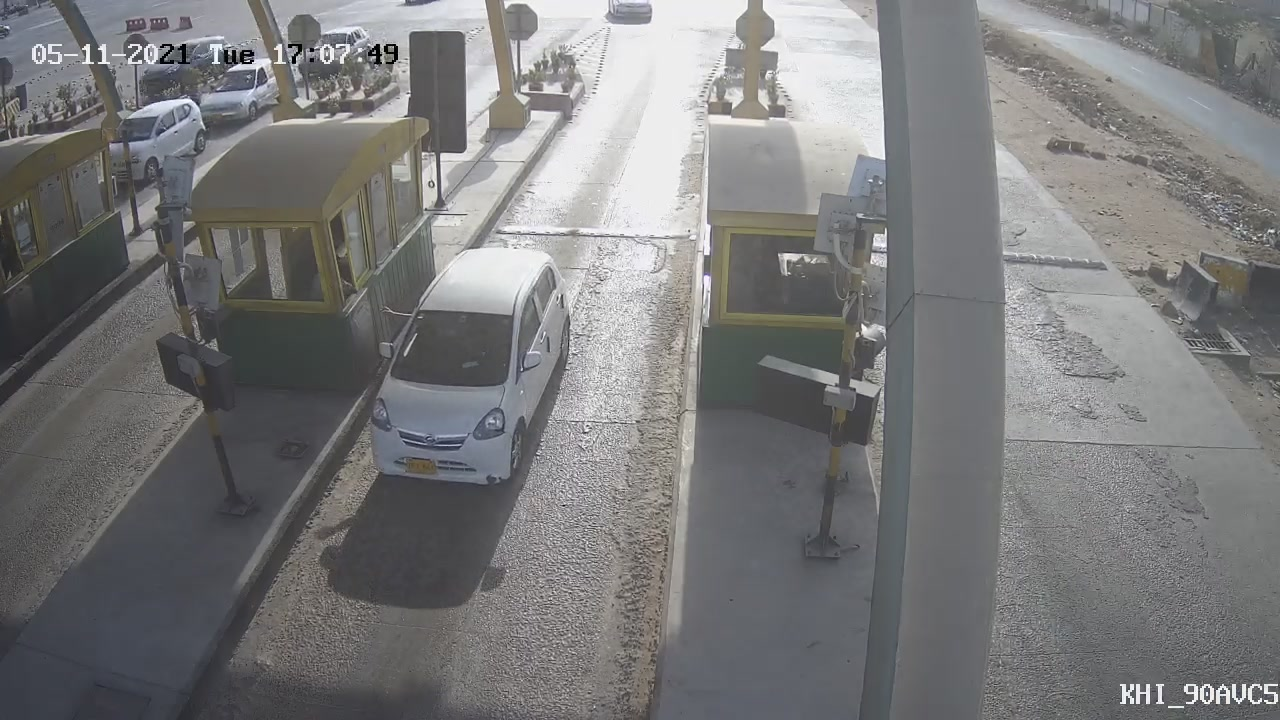F1: (350, 226, 592, 508)
